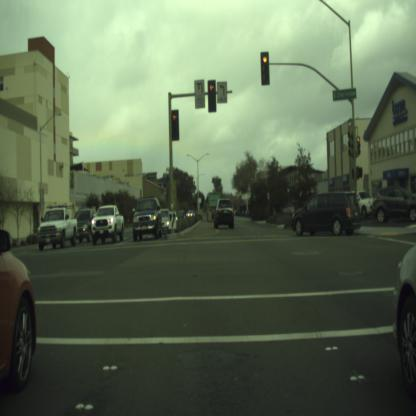Red: (260, 52, 269, 84), (356, 134, 360, 154)
RedLeft: (207, 80, 216, 111), (171, 109, 179, 140)
